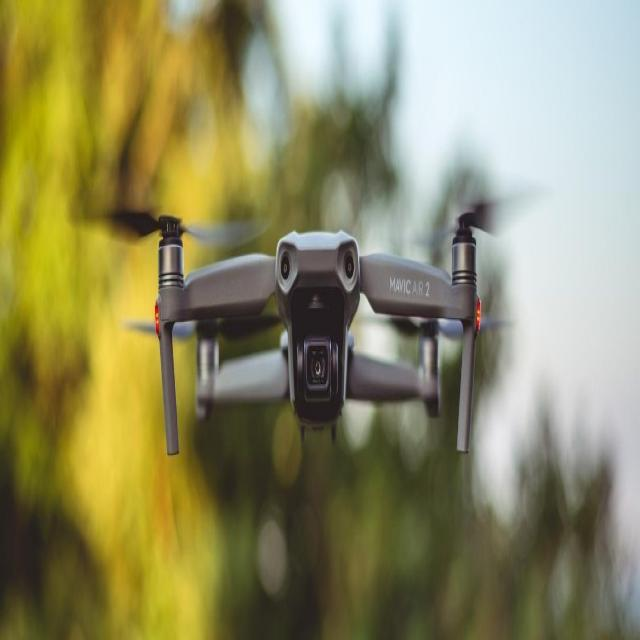drone: (95, 145, 538, 483)
